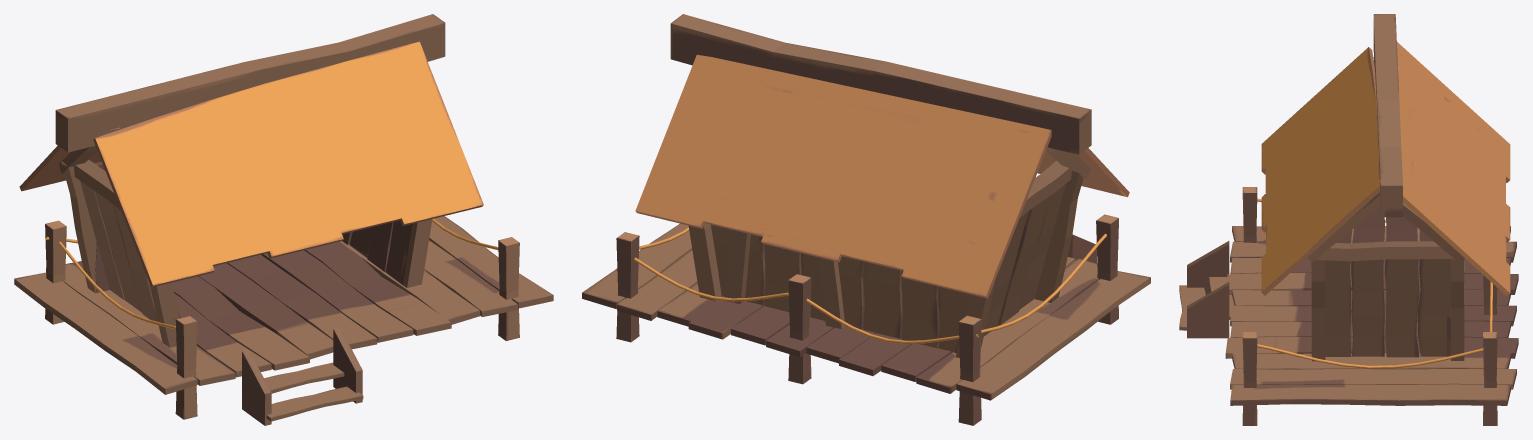
File: pondok.fbx
3 renders of one model, left to right at view 1: azimuth 30°, elevation 25°; view 2: azimuth 150°, elevation 25°; view 3: azimuth 270°, elevation 25°, orthographic. The views are drawn at different scales.
Visible parts, largest first — view 1: BezierCurve.005; view 2: BezierCurve.005; view 3: BezierCurve.005.
Boxes of the visible parts, x1,y1,x2,y2 form: BezierCurve.005: (14,14,553,425); BezierCurve.005: (582,14,1150,425); BezierCurve.005: (1179,14,1518,425).
Bounding box in the file's own units: 850 × 517 × 663.
